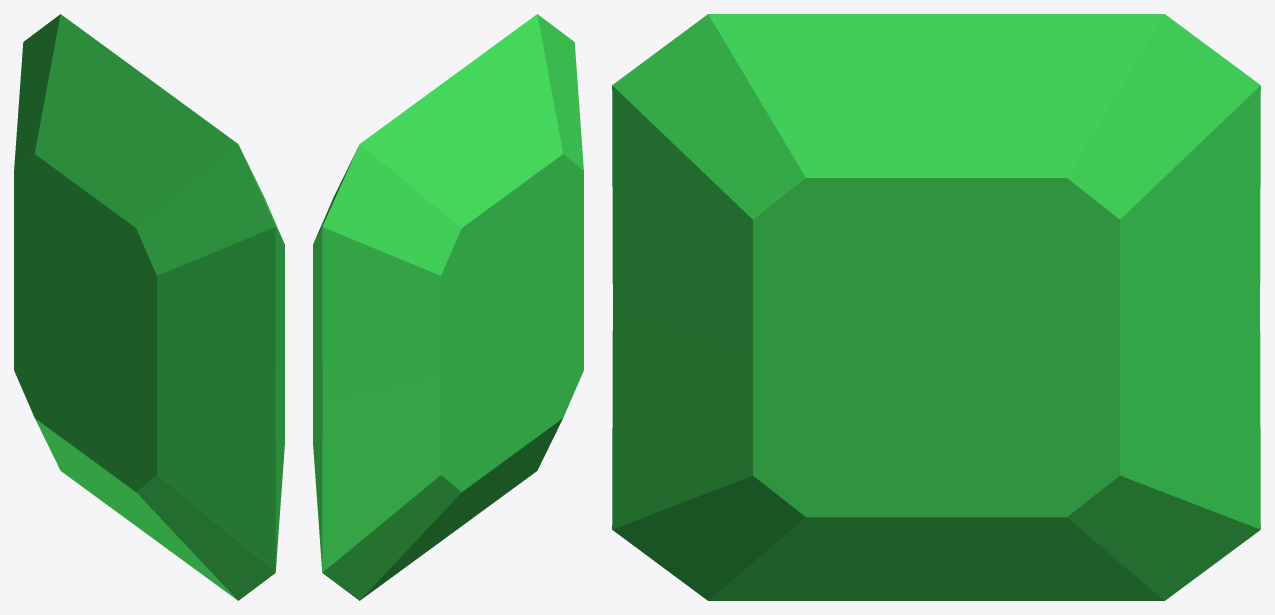
The model's file is sibur.obj.
3 renders of one model, left to right at view 1: azimuth 30°, elevation 25°; view 2: azimuth 150°, elevation 25°; view 3: azimuth 270°, elevation 25°, orthographic. The views are drawn at different scales.
Visible parts, largest first — view 1: Emerald_Plane; view 2: Emerald_Plane; view 3: Emerald_Plane.
Boxes of the visible parts, left/top/right/bottom form: Emerald_Plane: left=14, top=14, right=284, bottom=600; Emerald_Plane: left=313, top=14, right=583, bottom=600; Emerald_Plane: left=612, top=14, right=1260, bottom=600.
Bounding box in the file's own units: 0.2469 × 0.8418 × 0.8432.
